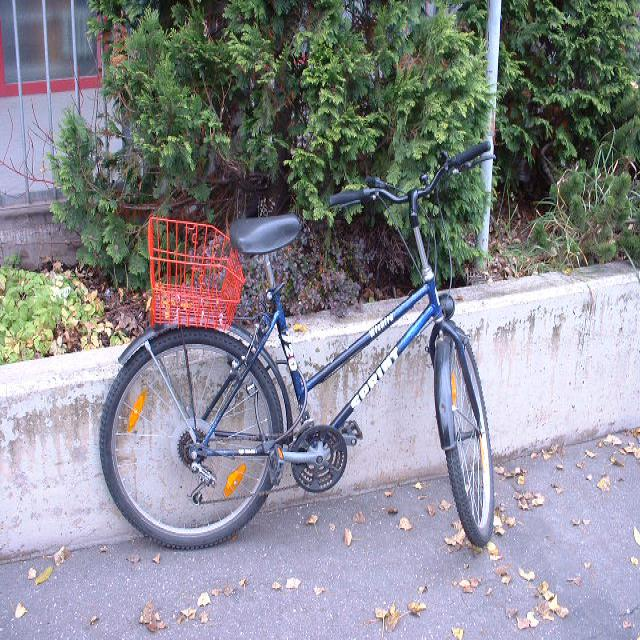bicycle: (98, 137, 497, 551)
